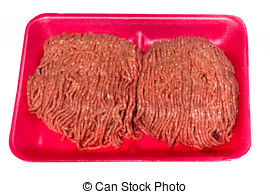ground_beef: (22, 31, 138, 147), (132, 38, 243, 150)
